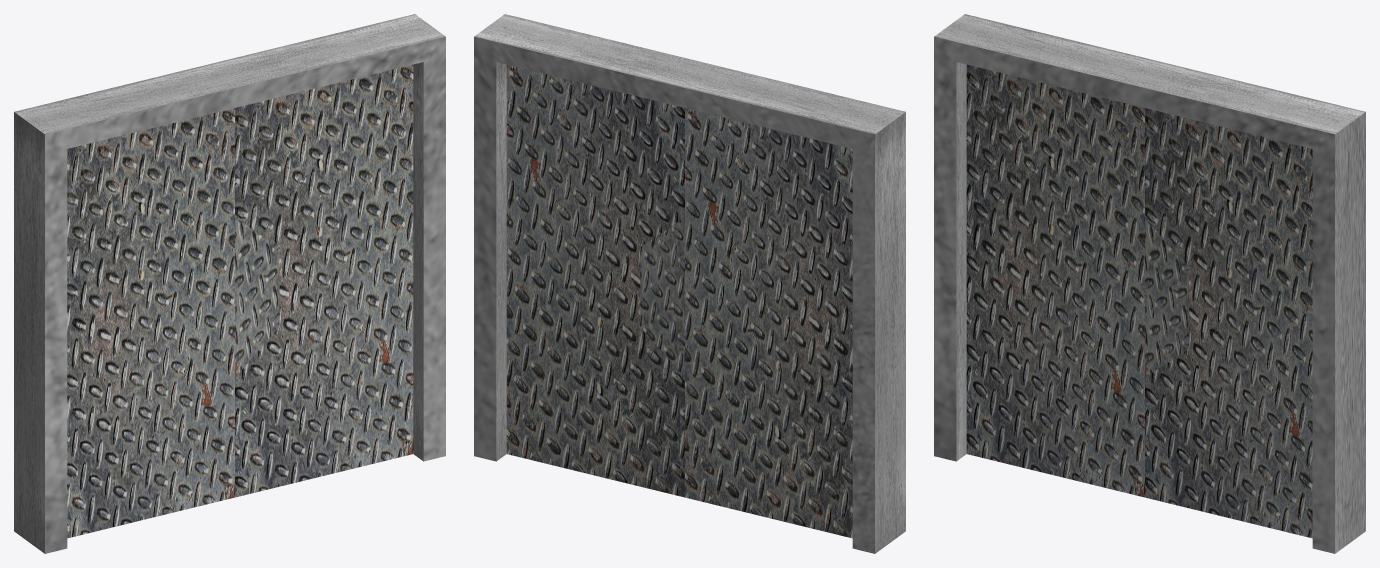
File: doorSquared.glb
The picture shows the model from 3 angles, left to right: view 1: azimuth 30°, elevation 25°; view 2: azimuth 150°, elevation 25°; view 3: azimuth 330°, elevation 25°; orthographic projection.
Visible parts, largest first — view 1: door_r, door_l, door; view 2: door_r, door_l, door; view 3: door_r, door_l, door.
Part boxes in pixels (x1,y1,x2,y2): door_r: [67, 108, 279, 538]; door_l: [235, 64, 413, 497]; door: [14, 14, 445, 553]; door_r: [640, 108, 852, 538]; door_l: [506, 64, 684, 497]; door: [474, 14, 905, 553]; door_r: [966, 64, 1189, 497]; door_l: [1145, 108, 1312, 538]; door: [934, 14, 1365, 553].
Bounding box in the file's own units: 9 × 9 × 1.2.
Materials: 3 (3 with a texture image).
